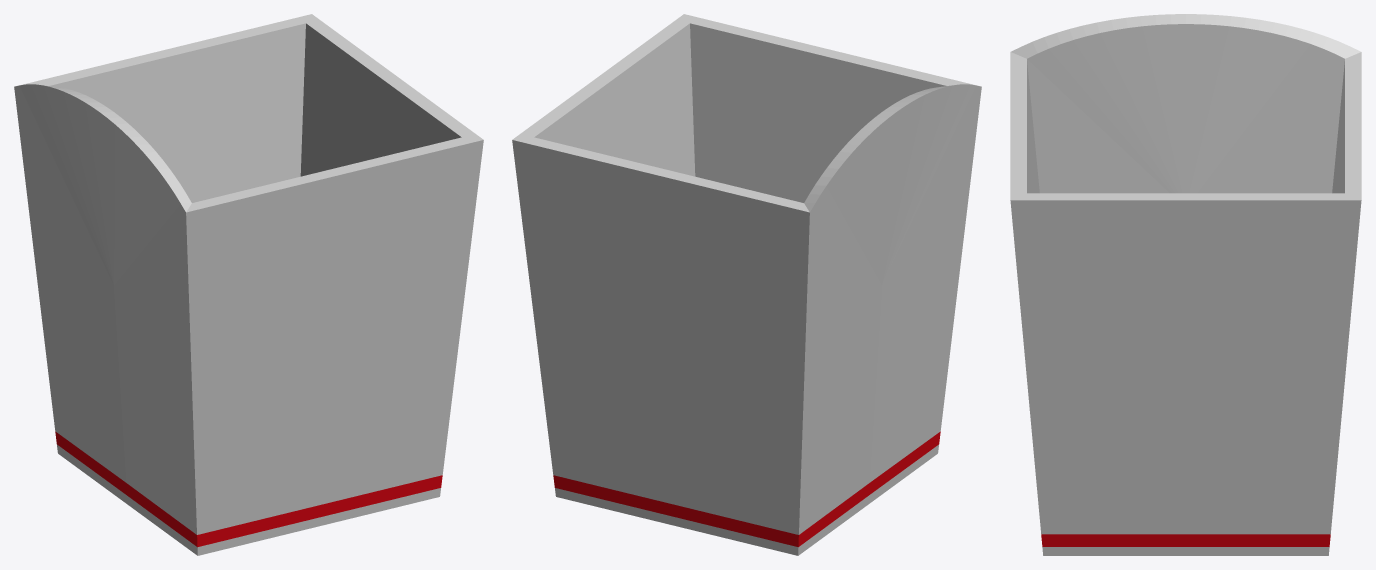
File: FriesCupEmpty.fbx
3 renders of one model, left to right at view 1: azimuth 30°, elevation 25°; view 2: azimuth 150°, elevation 25°; view 3: azimuth 270°, elevation 25°, orthographic. The views are drawn at different scales.
Visible parts, largest first — view 1: FriesCupEmpty; view 2: FriesCupEmpty; view 3: FriesCupEmpty.
Boxes of the visible parts, x1,y1,x2,y2 form: FriesCupEmpty: (14, 14, 483, 555); FriesCupEmpty: (512, 14, 981, 555); FriesCupEmpty: (1010, 14, 1361, 555).
Size of the model in its own units: 246 by 315 by 246.
